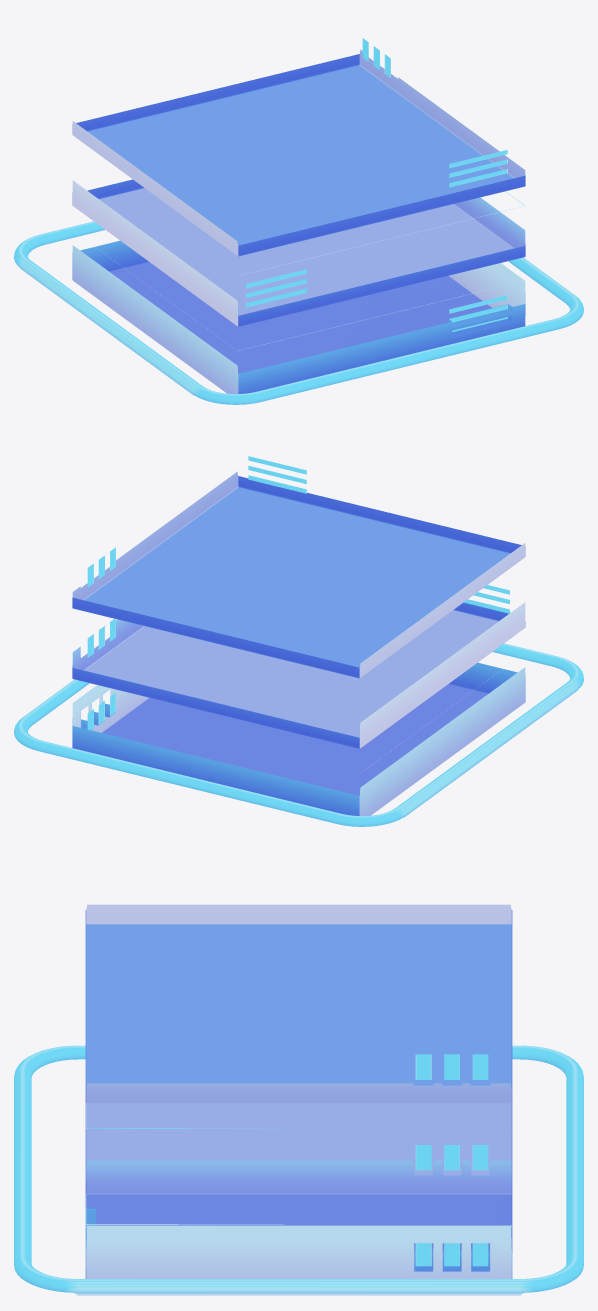
The model's file is switch.fbx.
3 renders of one model, top to bottom at view 1: azimuth 30°, elevation 25°; view 2: azimuth 150°, elevation 25°; view 3: azimuth 270°, elevation 25°, orthographic. The views are drawn at different scales.
Parts seen in each view (by area): view 1: 多边形; view 2: 多边形; view 3: 多边形.
Part boxes in pixels (<box>): 多边形: <box>14,38,583,404</box>; 多边形: <box>14,456,583,826</box>; 多边形: <box>14,904,583,1295</box>.
Bounding box in the file's own units: 51.6 × 25.24 × 51.6.
